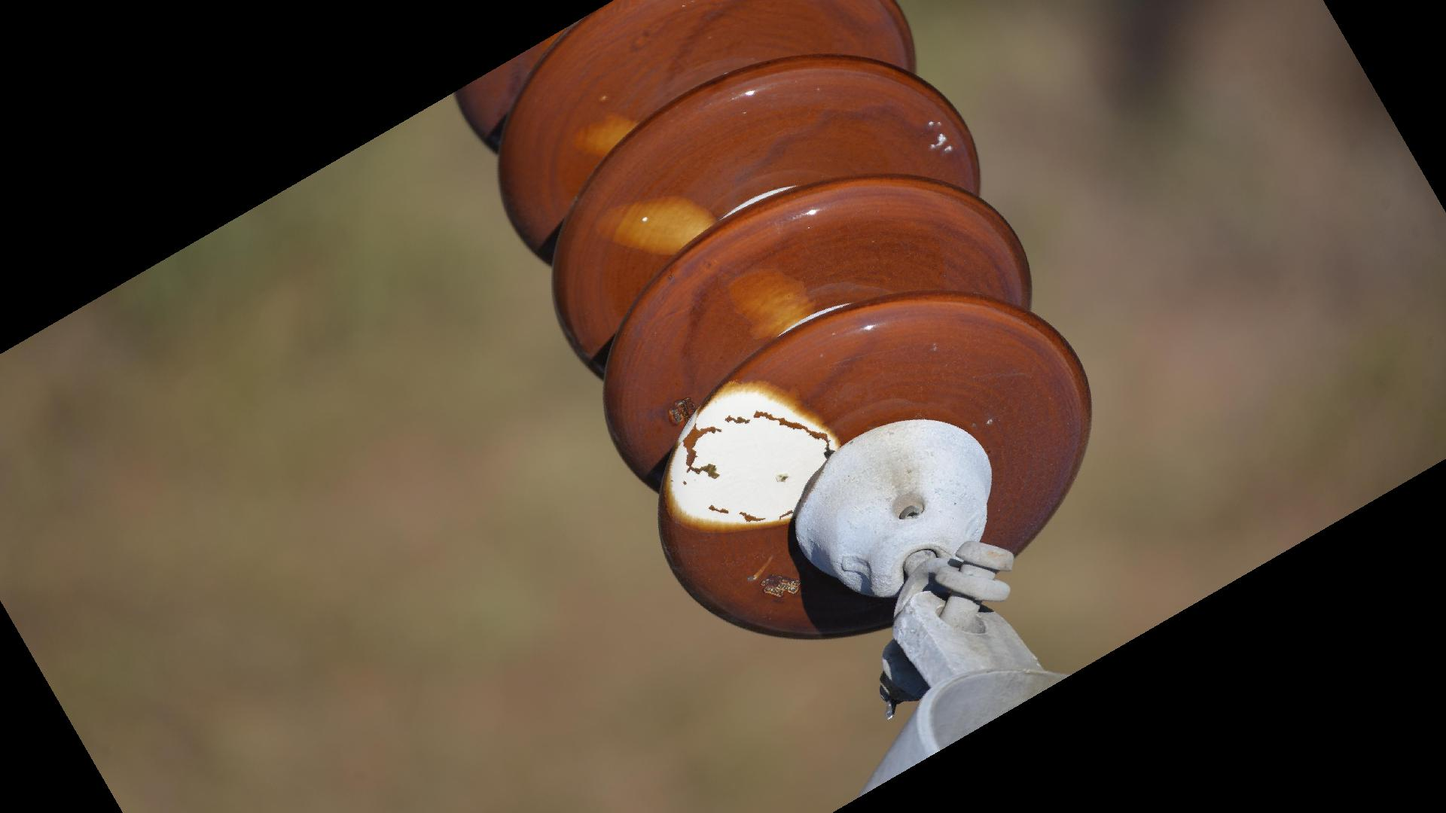insulator: (447, 1, 1103, 644)
insulator_flashover: (659, 376, 844, 534), (593, 190, 726, 261), (723, 262, 818, 345)
